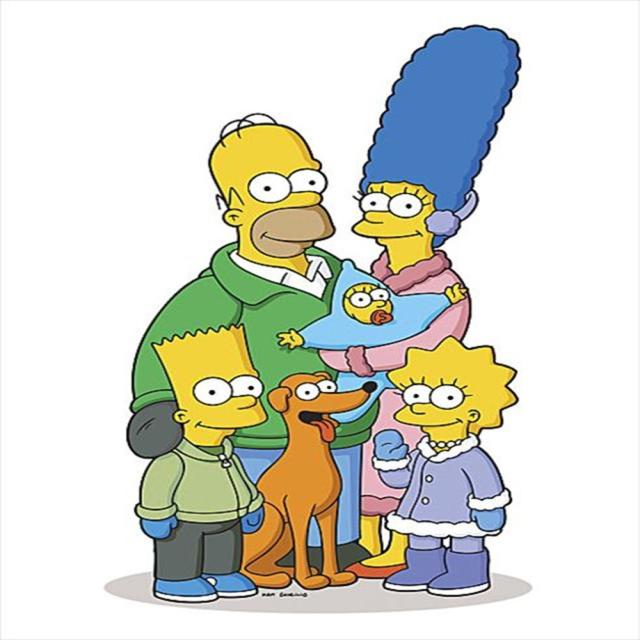Bart Simpson: (146, 322, 272, 449)
Homer Simpson: (206, 111, 338, 267)
Lisa Simpson: (382, 334, 524, 452)
Maggie Simpson: (335, 280, 400, 326)
Marge Simpson: (348, 22, 526, 260)
